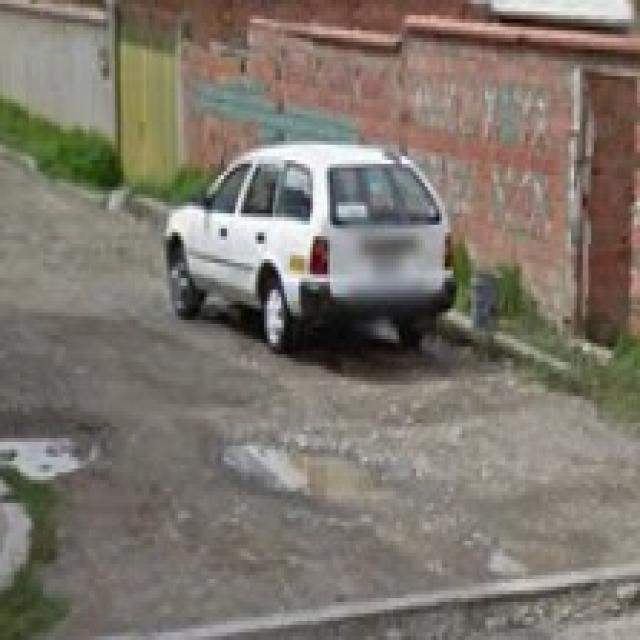car: (165, 143, 455, 353)
